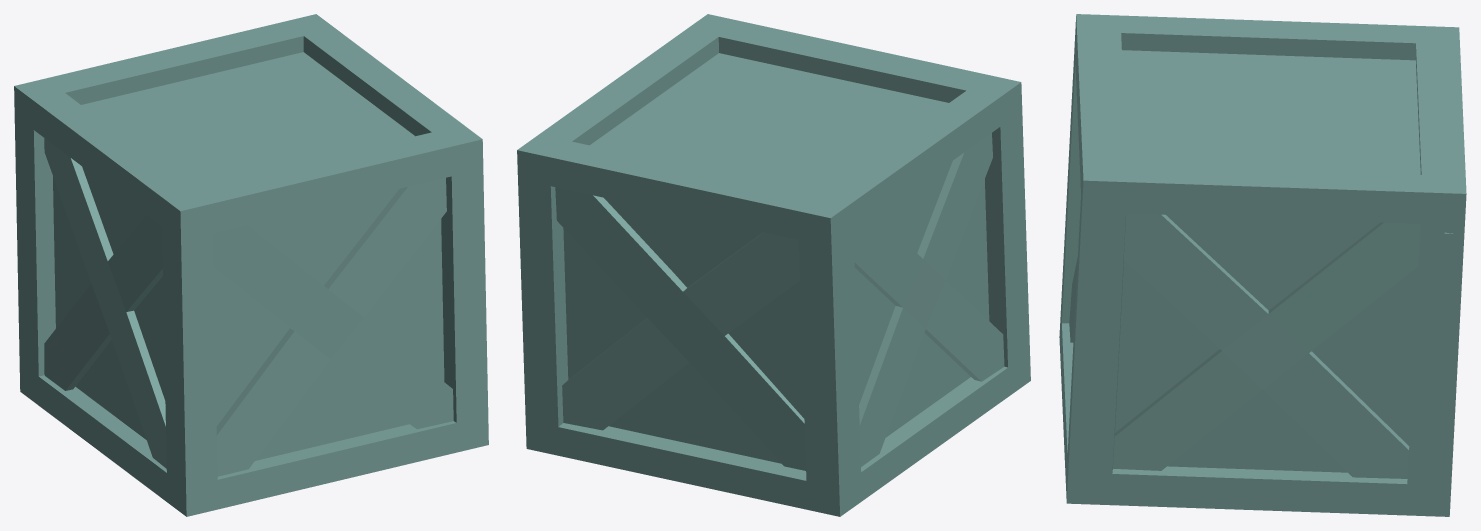
3 views of the same model, side by side, from view 1: azimuth 30°, elevation 25°; view 2: azimuth 150°, elevation 25°; view 3: azimuth 270°, elevation 25° (orthographic). The views are drawn at different scales.
Visible parts, largest first — view 1: box; view 2: box; view 3: box.
Part boxes in pixels (box(x1,y1,x2,y2)): box: box(14, 14, 488, 516); box: box(517, 14, 1030, 516); box: box(1059, 14, 1466, 516).
Bounding box in the file's own units: 505 × 473 × 518.
